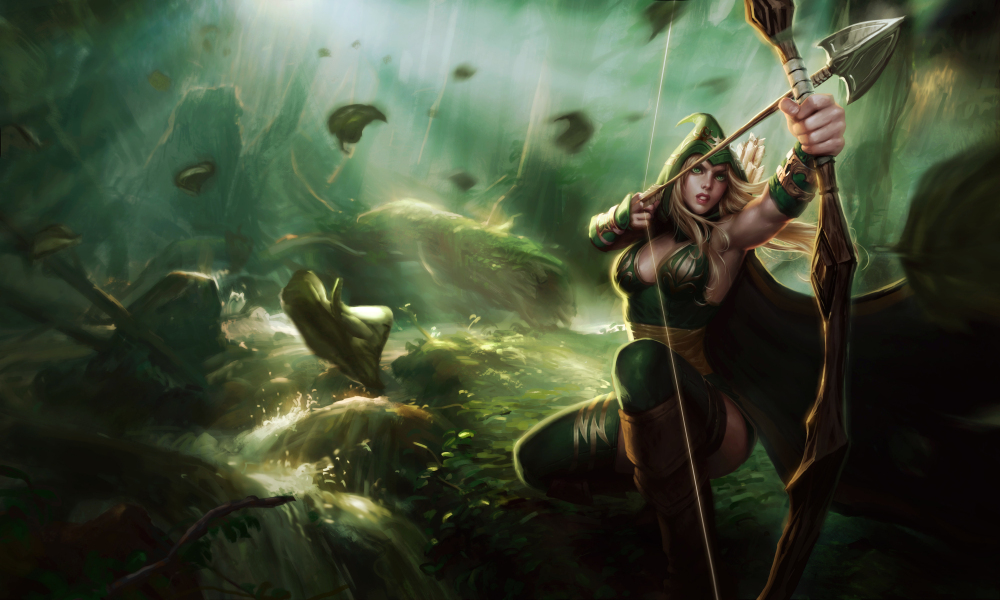face: (643, 102, 770, 227)
